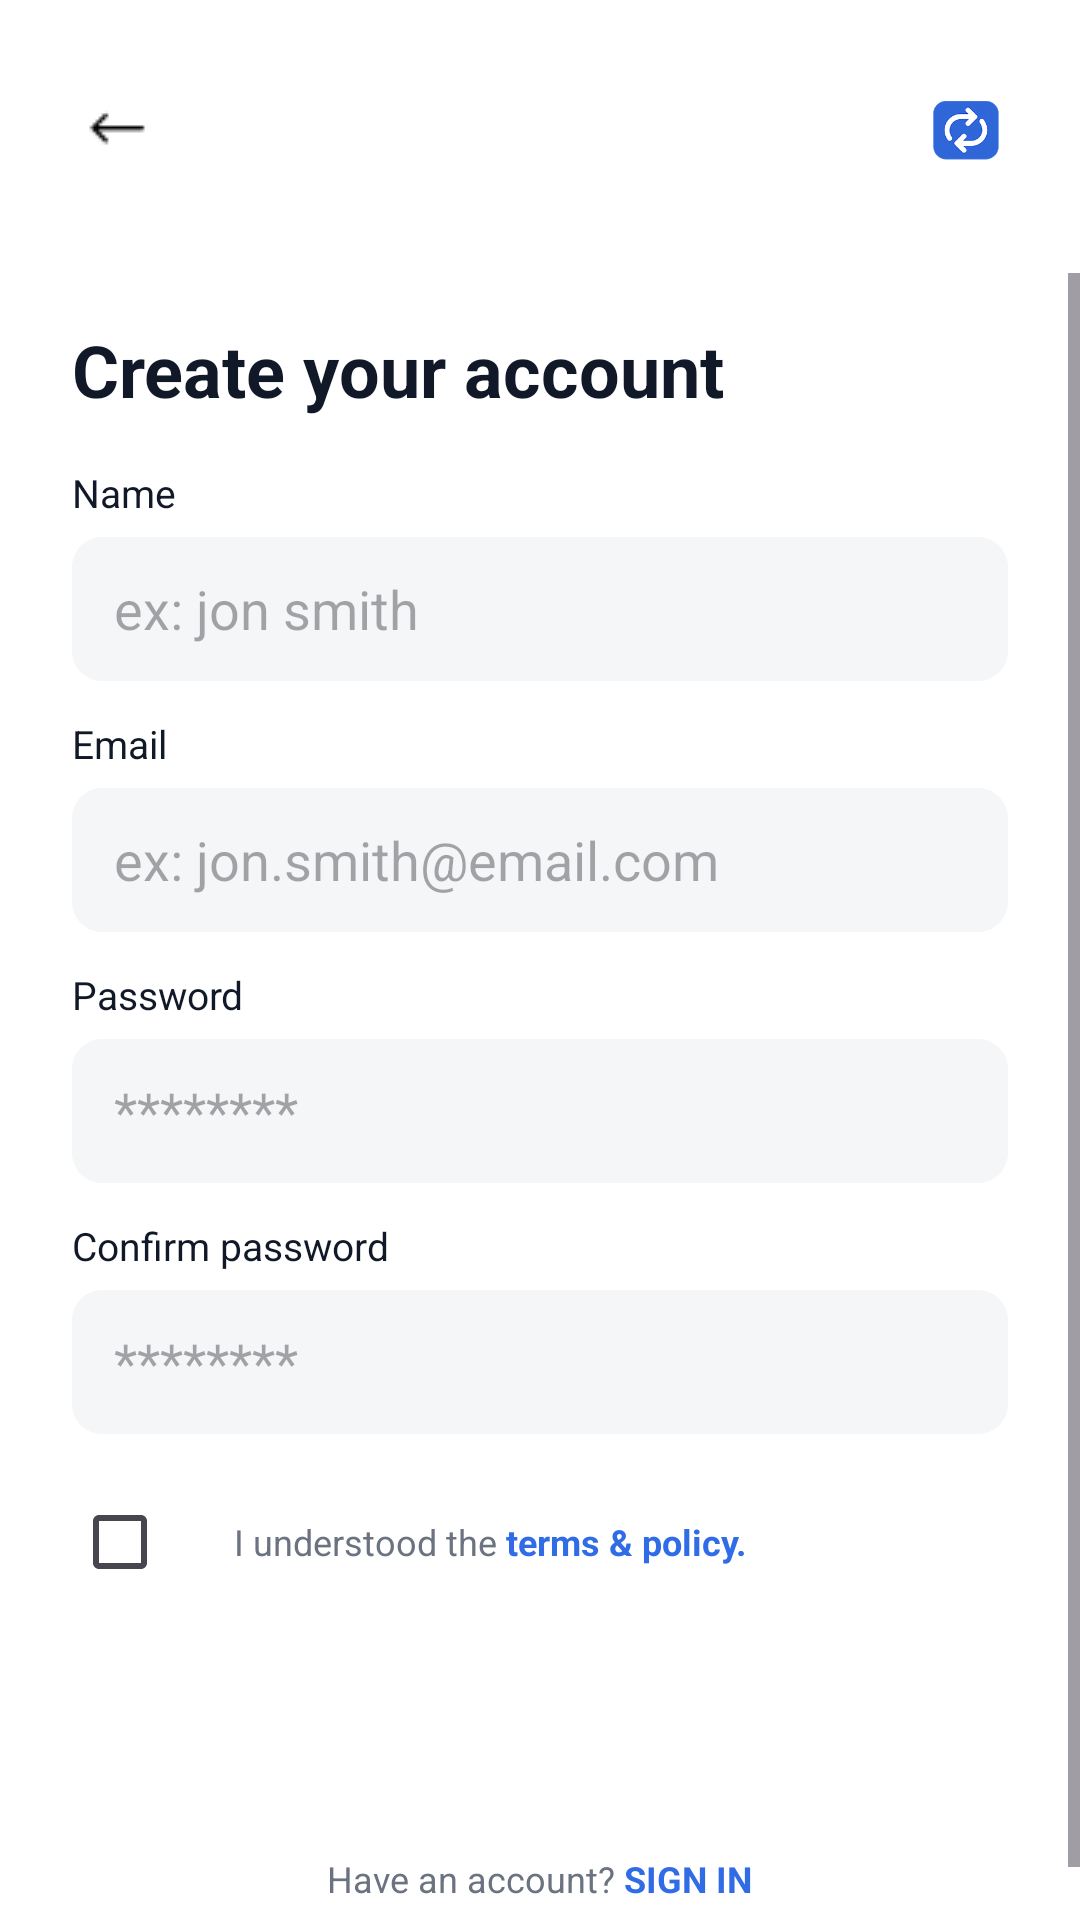

Point at icon controls on the screen. Image size 1080x1920, points as (x=x, y=y).
back arrow: (x=117, y=129)
